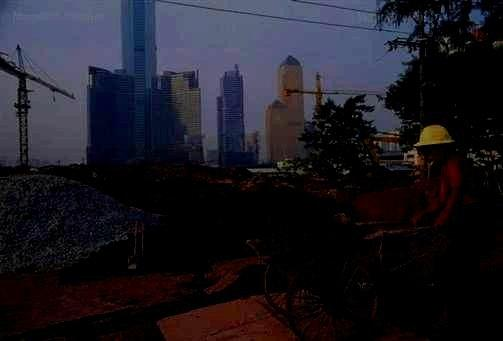helmet: (414, 124, 455, 163)
